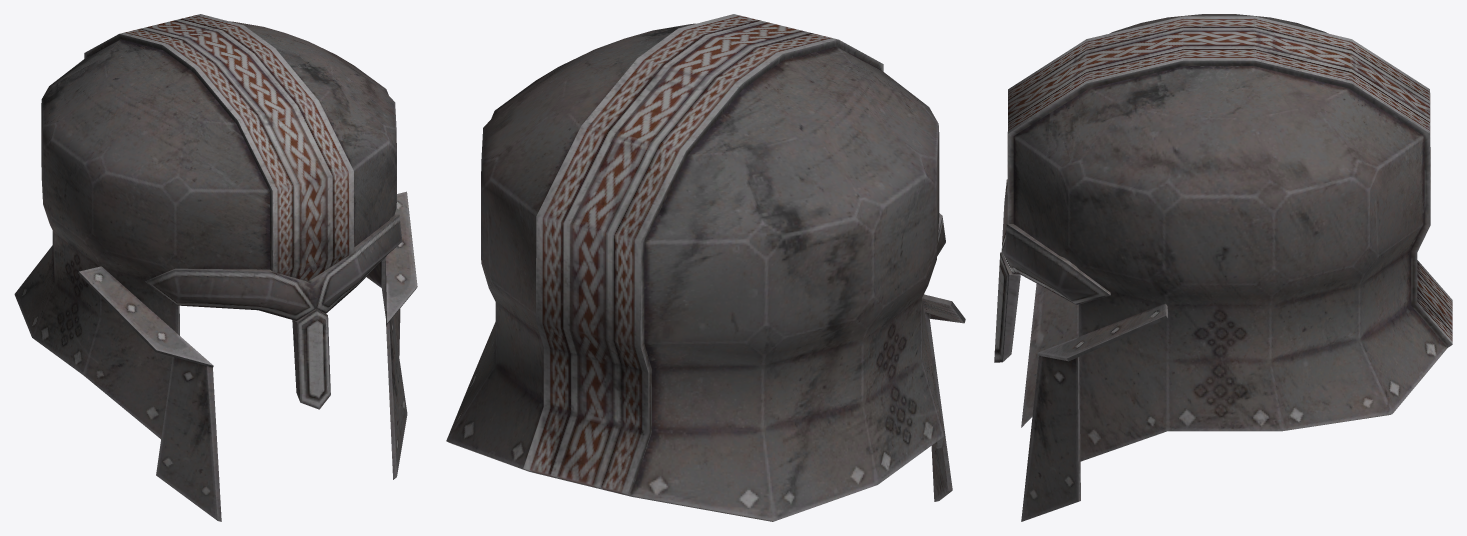
The model's file is sk_dwarf_iron_helmet_med_d1.fbx.
3 views of the same model, side by side, from view 1: azimuth 30°, elevation 25°; view 2: azimuth 150°, elevation 25°; view 3: azimuth 270°, elevation 25° (orthographic). The views are drawn at different scales.
Parts seen in each view (by area): view 1: sk_dwarf_iron_helmet_med_d1; view 2: sk_dwarf_iron_helmet_med_d1; view 3: sk_dwarf_iron_helmet_med_d1.
Part boxes in pixels (x1,y1,x2,y2): sk_dwarf_iron_helmet_med_d1: (14,14,417,521); sk_dwarf_iron_helmet_med_d1: (446,14,965,521); sk_dwarf_iron_helmet_med_d1: (994,14,1452,521).
Bounding box in the file's own units: 0.2823 × 0.3048 × 0.3202.
